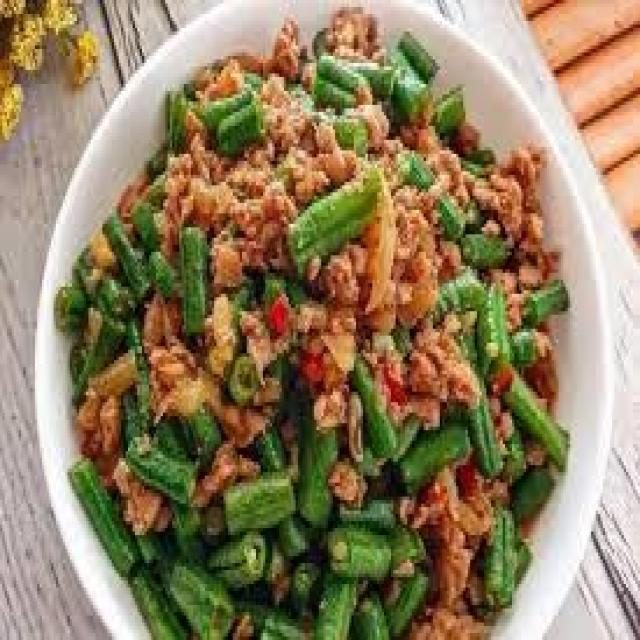kacang_panjang: (51, 35, 570, 640)
